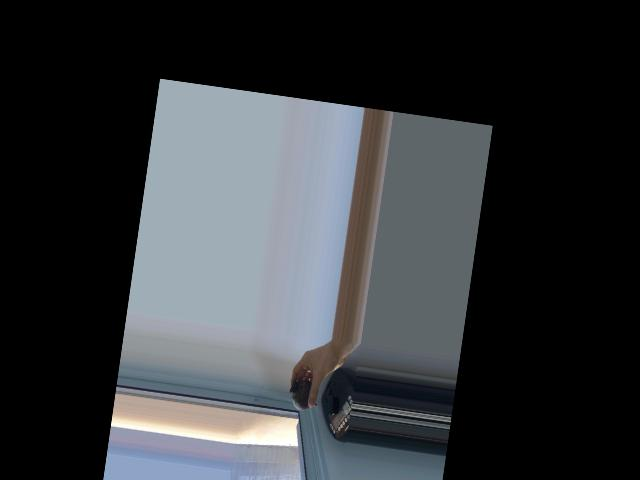beet: (287, 375, 322, 413)
